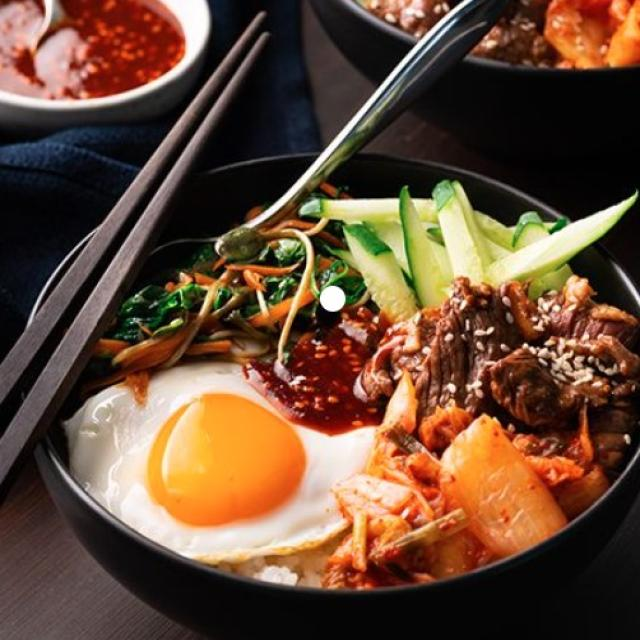Carbohydrate: (142, 304, 516, 592)
Kaow-Yum: (23, 140, 640, 608)
Protein: (60, 360, 375, 564), (350, 279, 640, 440)
Vegetable: (101, 185, 640, 361), (345, 372, 621, 580)
